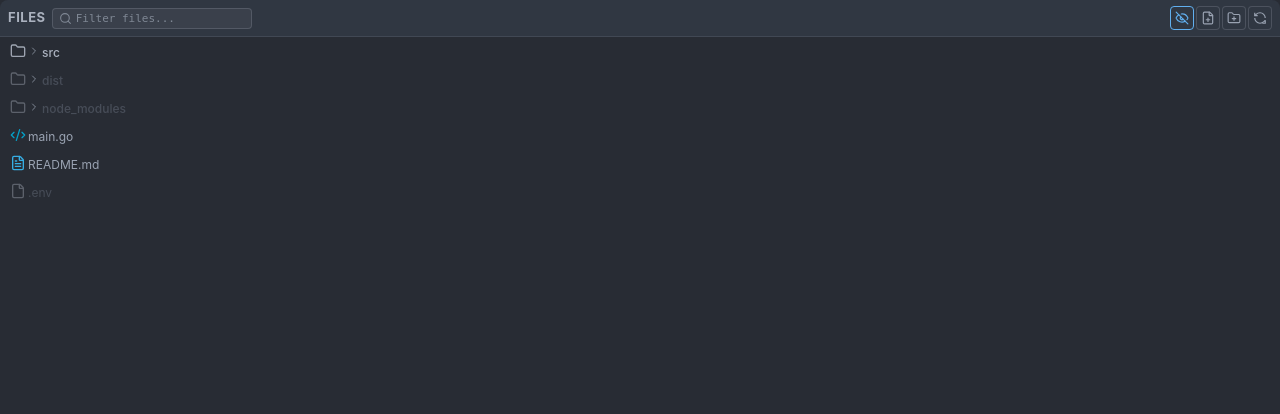
it: FileTree context menu – clipboard & editor actions › context menu is dismissed after a copy action
The image size is (1280, 414).
Right-click the list item with class "file-tree-item" showing "main.go": point(42, 135) [10, 126, 73, 144]
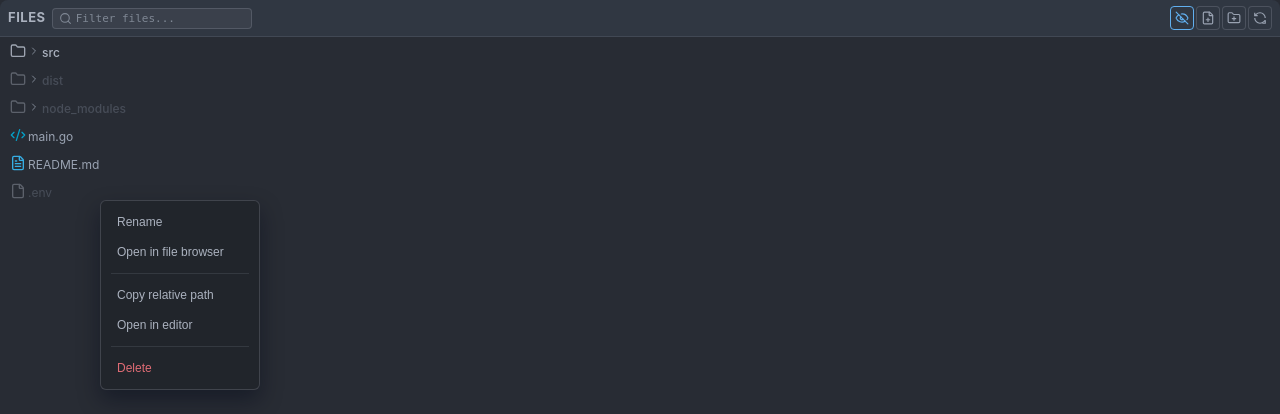
Check: the element with class "context-menu" is shown, box [100, 200, 260, 390]
Click the button with class "context-menu-item" showing "Copy relative path": point(180, 295) [107, 280, 253, 310]
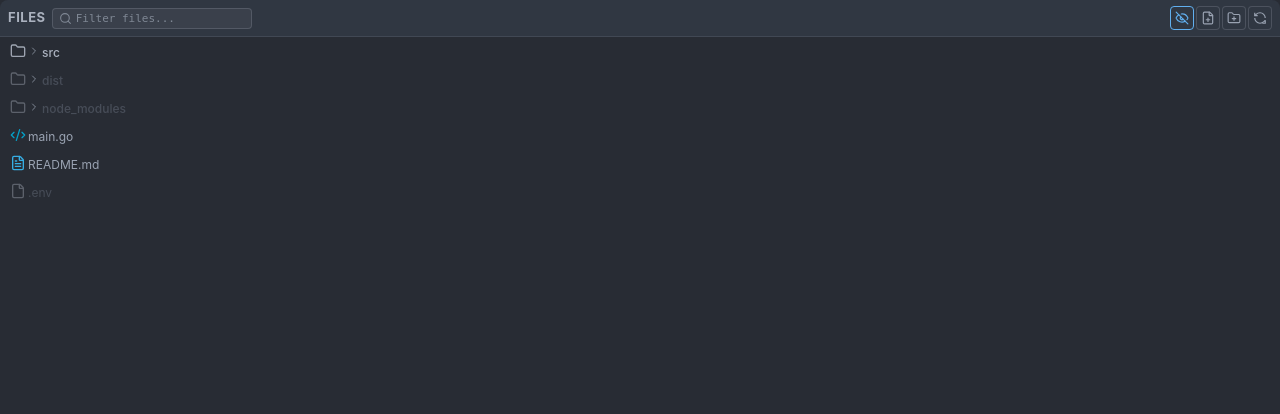
Check: the element with class "context-menu" is gone
